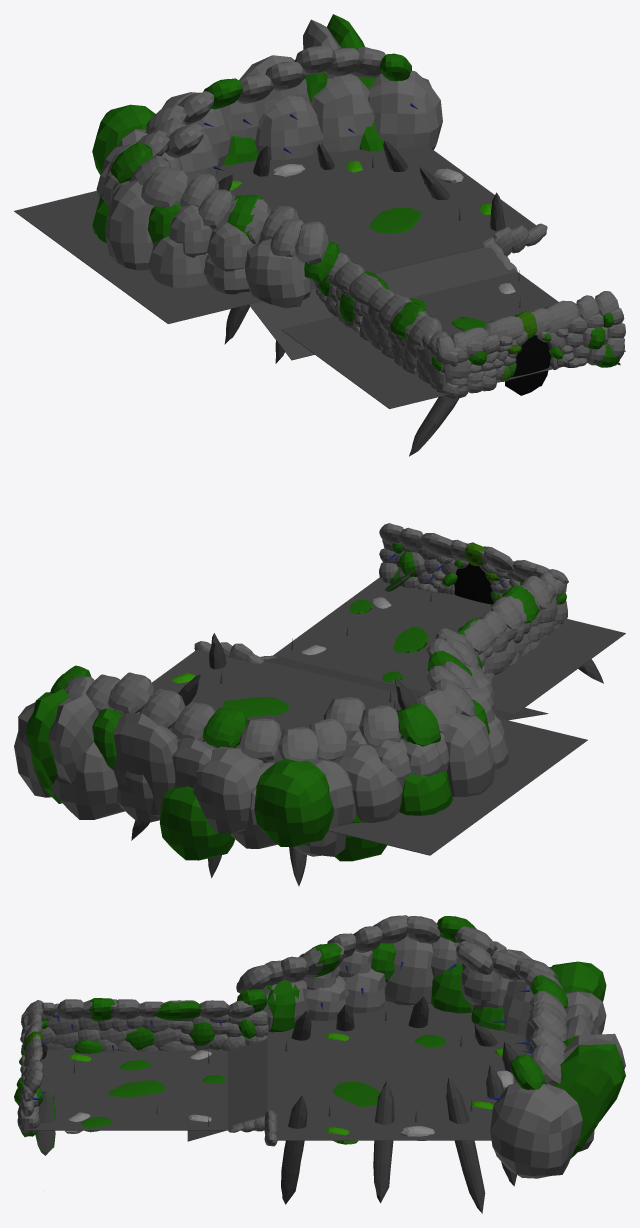
The model's file is FaseFinal.fbx.
The picture shows the model from 3 angles, top to bottom: view 1: azimuth 30°, elevation 25°; view 2: azimuth 150°, elevation 25°; view 3: azimuth 270°, elevation 25°; orthographic projection. The views are drawn at different scales.
Parts seen in each view (by area): view 1: Cube.088, Cube.017, Cube.069, Cube.142, Cube.141, Cube.109, Cube.140, Cube.089, Cube.092, Cube.128, Cube.165, Cube.091 (+35 smaller); view 2: Cube.088, Cube.017, Cube.128, Cube.139, Cube.144, Cube.109, Cube.138, Cube.126, Cube.141, Cube.153, Cube.114, Cube.154 (+33 smaller); view 3: Cube.088, Cube.017, Cube.142, Cube.154, Cube.069, Cube.109, Cube.156, Cube.163, Cube.164, Cube.092, Cube.128, Cube.116 (+46 smaller).
Part boxes in pixels (x1,y1,x2,y2): Cube.088: (14,144,535,323); Cube.017: (281,271,625,408); Cube.069: (249,247,516,360); Cube.142: (368,70,442,149); Cube.141: (310,75,374,151); Cube.109: (105,180,154,270); Cube.140: (255,96,323,159); Cube.089: (245,239,312,308); Cube.092: (148,236,207,287); Cube.128: (92,104,155,174); Cube.165: (505,335,551,395); Cube.091: (207,222,256,271); Cube.088: (116,649,587,855); Cube.017: (273,577,625,714); Cube.128: (254,758,333,846); Cube.139: (193,746,264,833); Cube.144: (113,713,178,816); Cube.109: (442,712,495,796); Cube.138: (159,786,235,860); Cube.126: (332,743,402,822); Cube.141: (51,742,124,819); Cube.153: (48,694,98,785); Cube.114: (293,759,355,856); Cube.154: (26,688,69,803); Cube.088: (267,967,550,1140); Cube.017: (24,1048,264,1130); Cube.142: (490,1083,582,1178); Cube.154: (545,1044,625,1158); Cube.069: (187,1035,267,1141); Cube.109: (385,936,433,1005); Cube.156: (446,1077,485,1213); Cube.163: (373,1080,394,1203); Cube.164: (281,1095,307,1204); Cube.092: (341,968,386,1013); Cube.128: (550,961,606,1001); Cube.116: (431,963,471,1013).
Bounding box in the file's own units: 165055 × 89553 × 226130.
